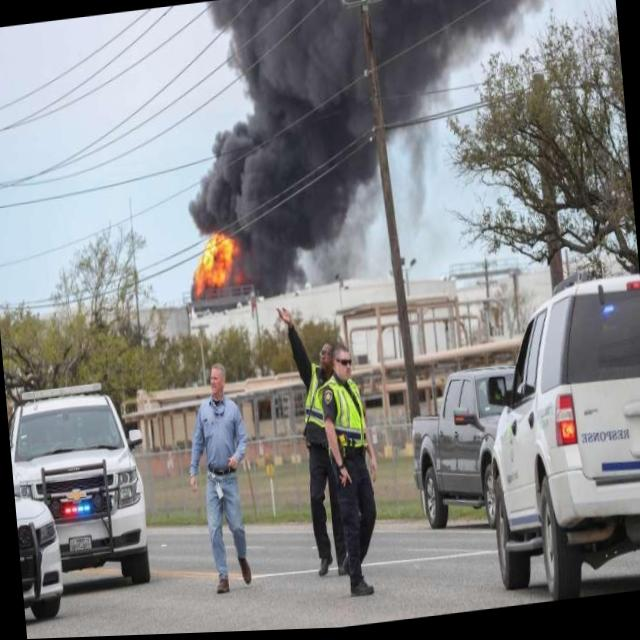fire: (180, 224, 250, 312)
